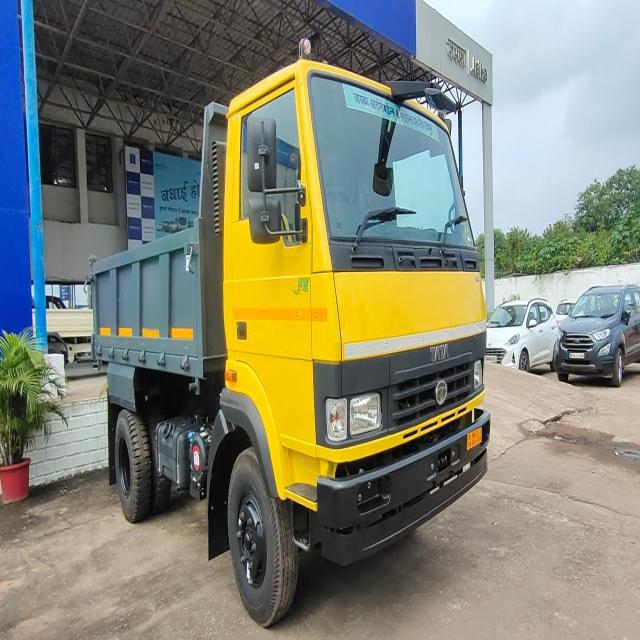dump_truck: (68, 32, 504, 626)
light_vehicle: (554, 279, 640, 380), (482, 281, 559, 383)
